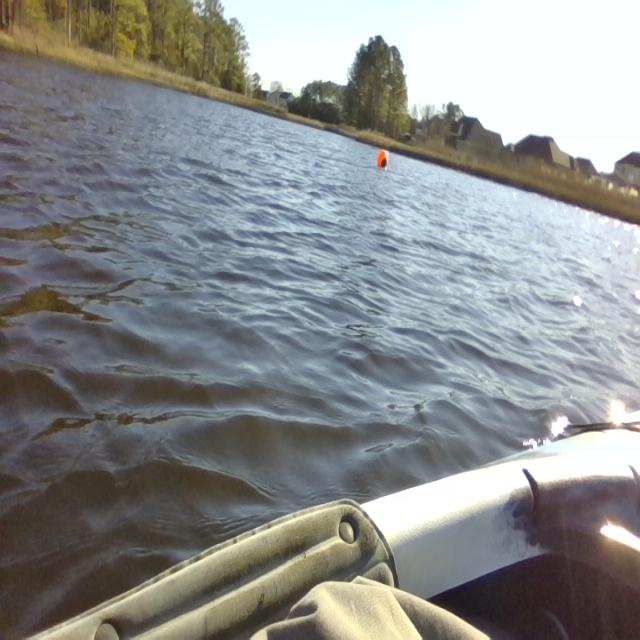Buoy: (372, 146, 392, 173)
